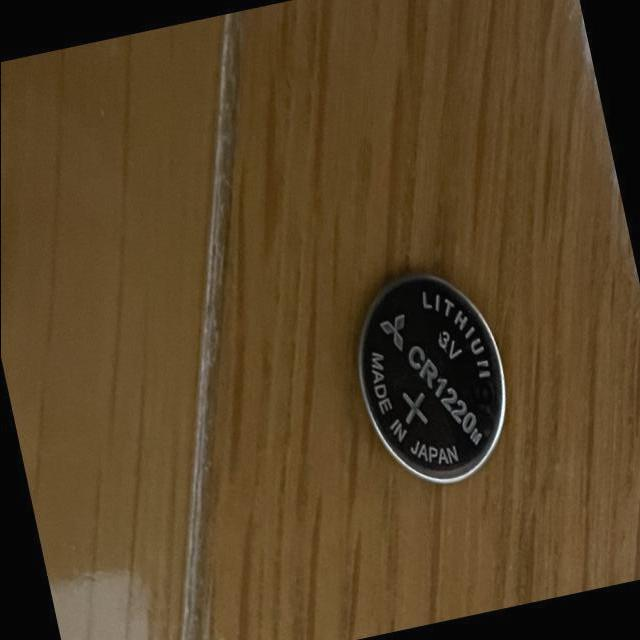COIN: (338, 260, 522, 497)
